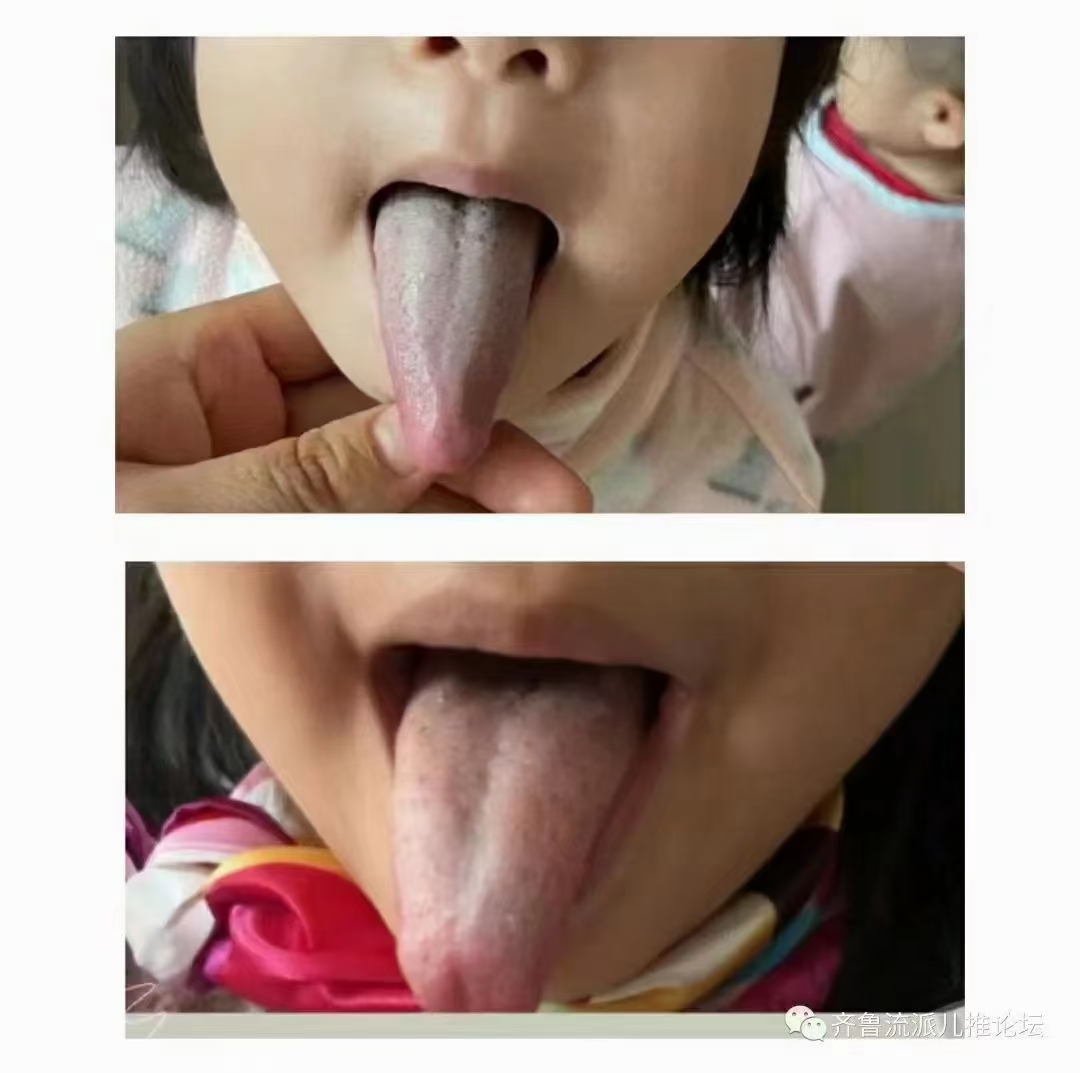baitaishe: (394, 674, 658, 1012), (372, 190, 536, 473)
shoushe: (394, 674, 658, 1012), (372, 190, 536, 473)
